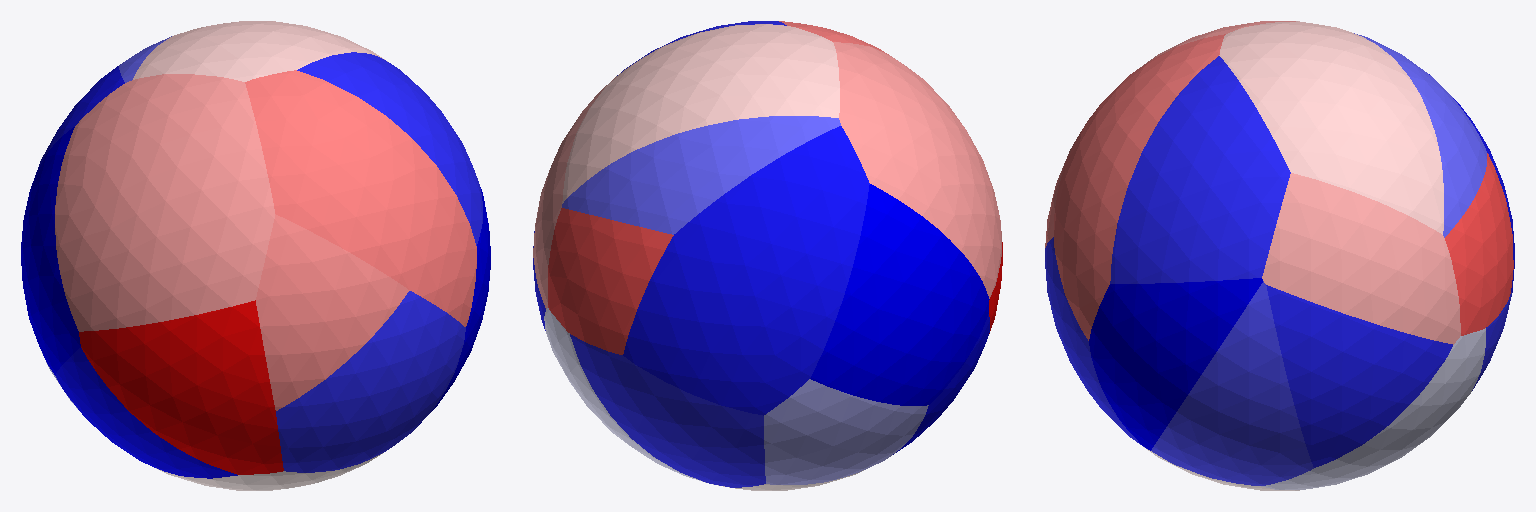
3 renders of one model, left to right at view 1: azimuth 30°, elevation 25°; view 2: azimuth 150°, elevation 25°; view 3: azimuth 270°, elevation 25°, orthographic.
Visible parts, largest first — view 1: 3D_Object; view 2: 3D_Object; view 3: 3D_Object.
Boxes of the visible parts, <box> form: 3D_Object: <box>21,21,490,490</box>; 3D_Object: <box>533,21,1002,490</box>; 3D_Object: <box>1045,21,1514,490</box>.
Bounding box in the file's own units: 2 × 2 × 2.
Materials: 1 (1 with a texture image).